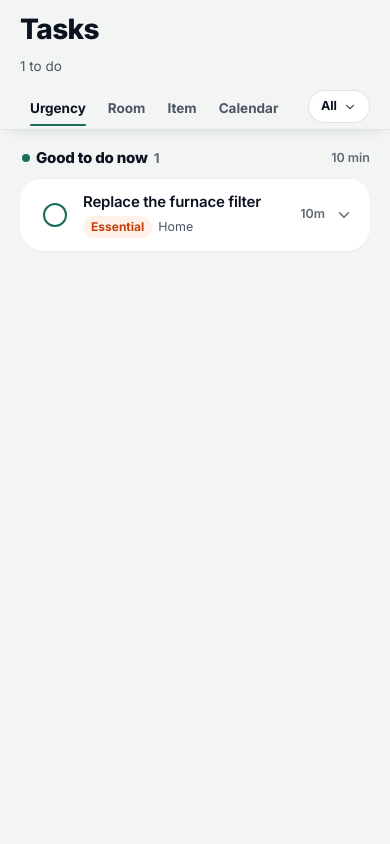
Tasks — Done from the list: receipt and Undo first, the write after › says 'Done · next due {date}' with Undo, and Undo means nothing is ever written
Expected: the text "Replace the furnace filter" is shown, [83,192,290,212]
Click the button named "mark done" at (55, 215), box [35,195,75,235]
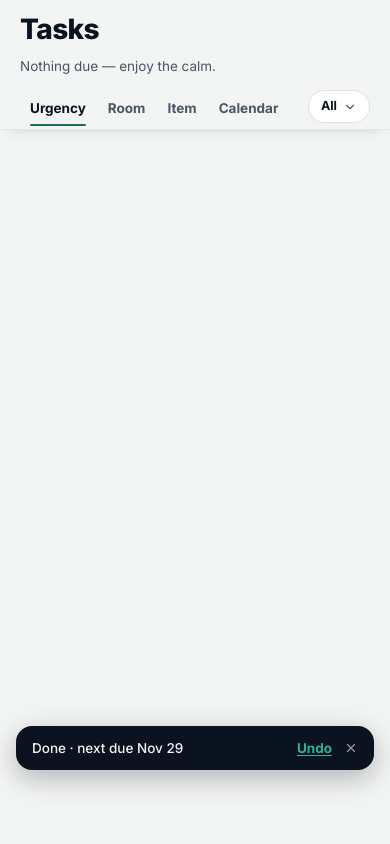
Expected: the text "Replace the furnace filter" is gone
Click the button "Undo" at (314, 748), box [297,738,332,758]
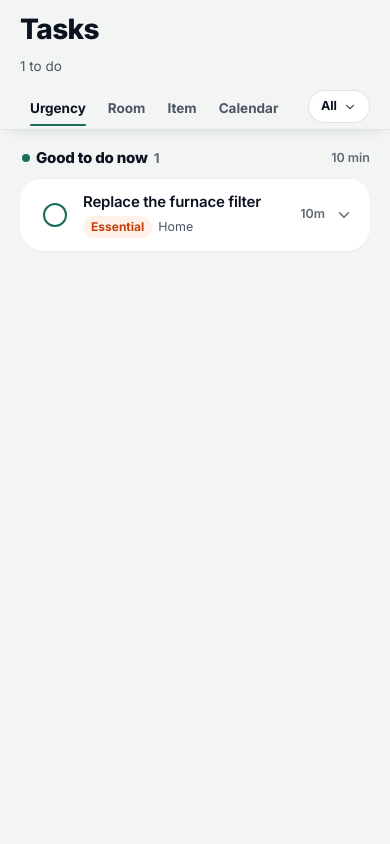
Expected: the text "Replace the furnace filter" is shown, [83,192,290,212]
